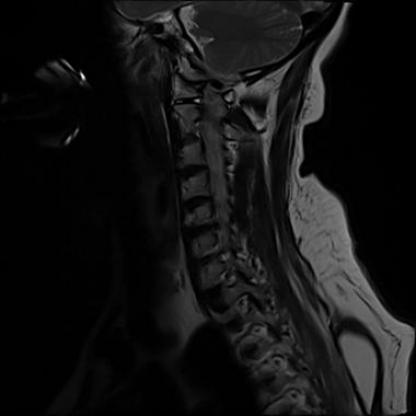Disc Bulgerotation: (189, 245, 228, 268), (180, 220, 217, 238)
